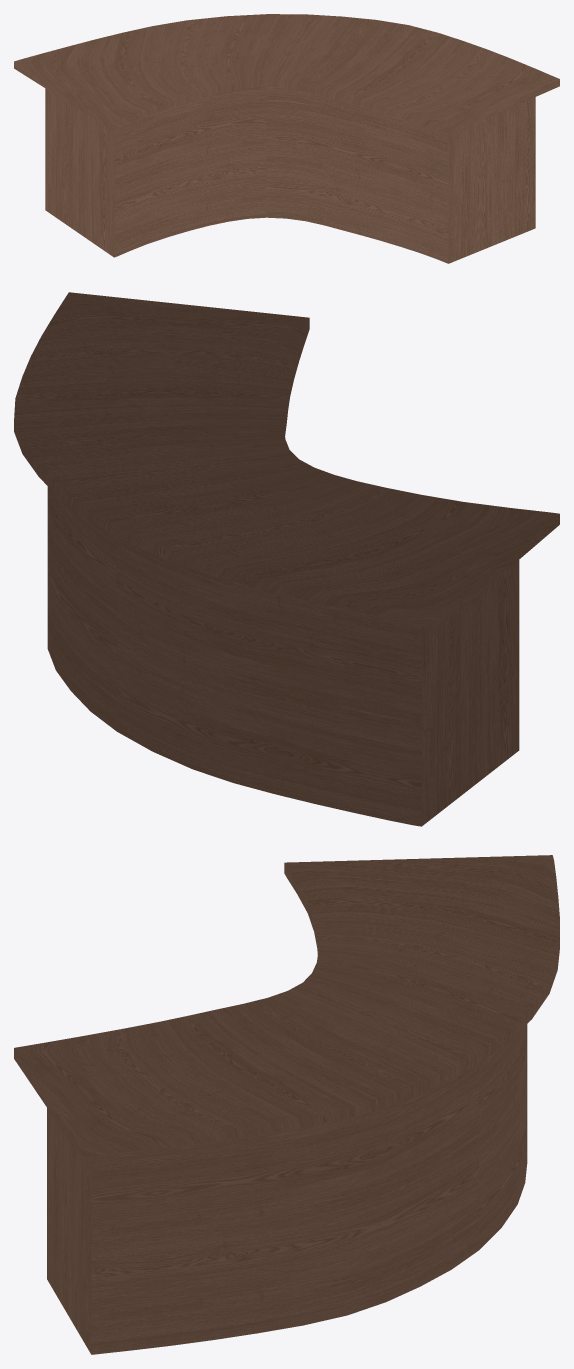
The model's file is receptionTable.obj.
The picture shows the model from 3 angles, top to bottom: view 1: azimuth 30°, elevation 25°; view 2: azimuth 150°, elevation 25°; view 3: azimuth 270°, elevation 25°; orthographic projection. The views are drawn at different scales.
Visible parts, largest first — view 1: Reception_table; view 2: Reception_table; view 3: Reception_table.
Boxes of the visible parts, x1,y1,x2,y2 form: Reception_table: (14,14,559,263); Reception_table: (14,292,559,826); Reception_table: (14,855,559,1354).
Bounding box in the file's own units: 100 × 36 × 79.46.
1 material, 1 textured.
